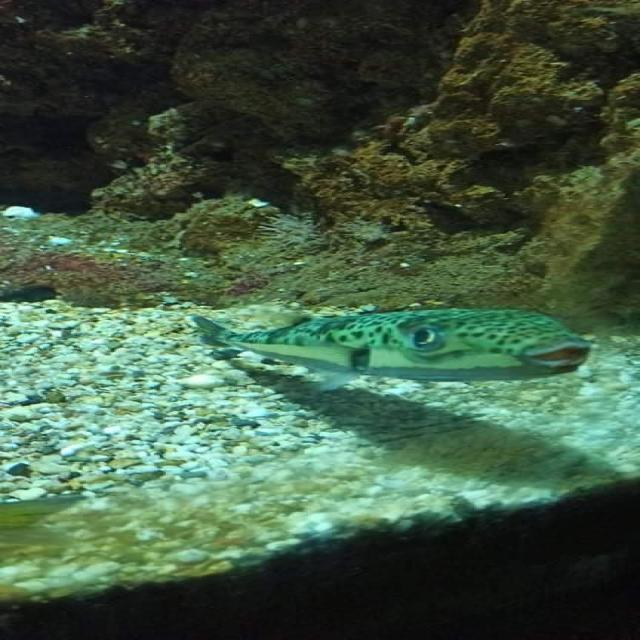Balon Baligi: (185, 306, 597, 392)
